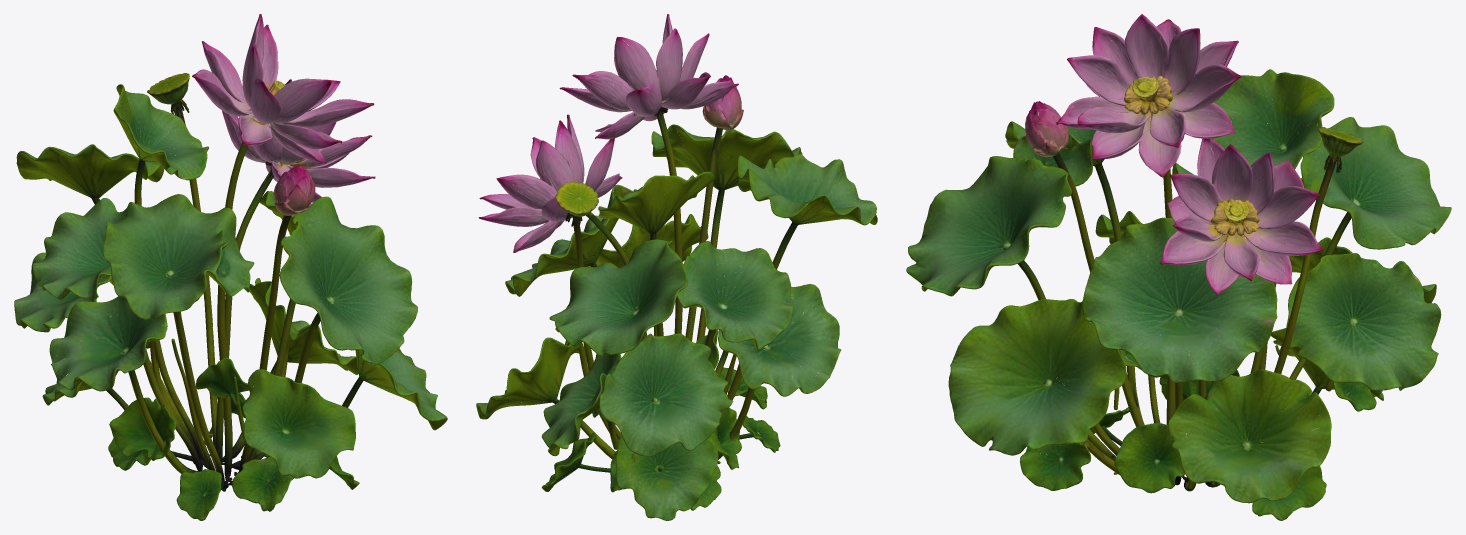
Rendered from lotus.glb.
3 renders of one model, left to right at view 1: azimuth 30°, elevation 25°; view 2: azimuth 150°, elevation 25°; view 3: azimuth 270°, elevation 25°, orthographic. The views are drawn at different scales.
Visible parts, largest first — view 1: part3, part2, part0, part1, part4; view 2: part0, part1, part2, part3, part4; view 3: part3, part0, part2, part1, part4.
Part boxes in pixels (bbox=[...]): part3: bbox=[51, 44, 447, 511]; part2: bbox=[49, 16, 428, 520]; part0: bbox=[14, 73, 347, 437]; part1: bbox=[38, 25, 365, 470]; part4: bbox=[58, 14, 367, 482]; part0: bbox=[476, 174, 757, 520]; part1: bbox=[476, 79, 841, 510]; part2: bbox=[530, 14, 876, 474]; part3: bbox=[506, 28, 877, 439]; part4: bbox=[523, 37, 829, 463]; part3: bbox=[906, 14, 1243, 493]; part0: bbox=[1217, 74, 1451, 512]; part2: bbox=[1019, 27, 1252, 491]; part1: bbox=[1129, 41, 1331, 520]; part4: bbox=[1150, 25, 1263, 486].
Bounding box in the file's own units: 0.7278 × 0.9437 × 0.9815.
Materials: 1 (1 with a texture image).
